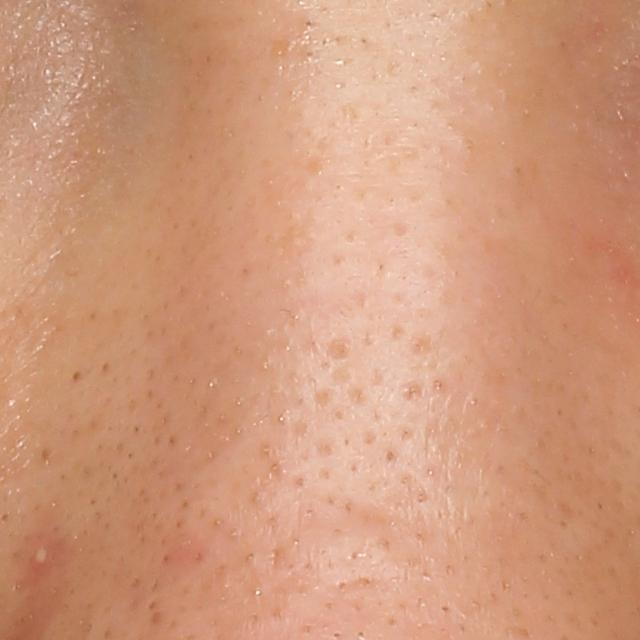pustule: (24, 540, 53, 571)
